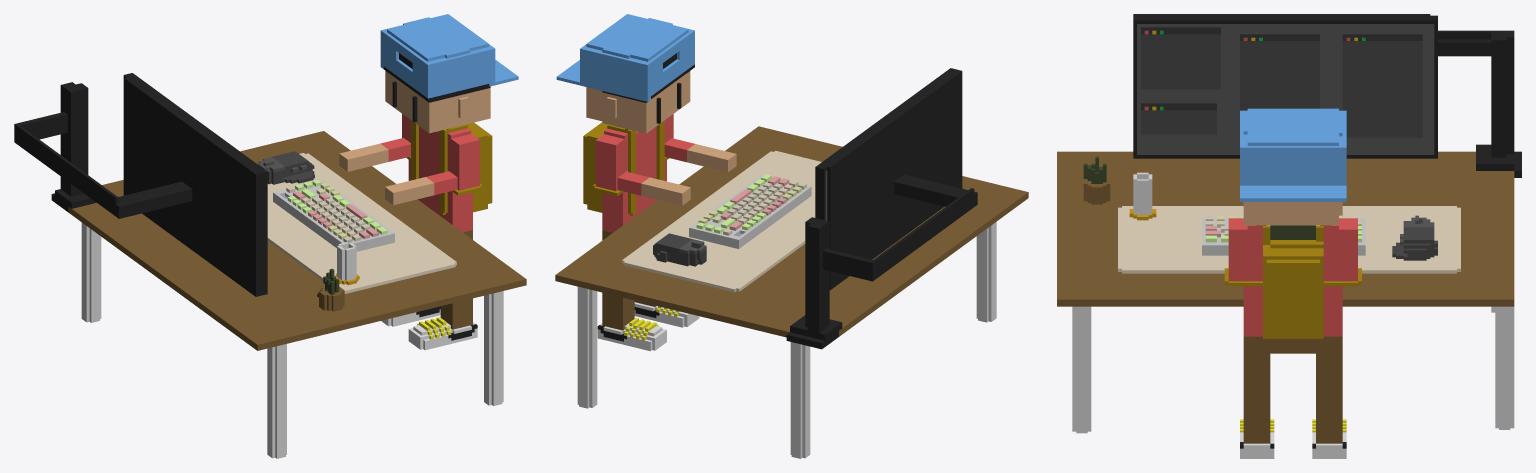
The model's file is desk1.glb.
3 views of the same model, side by side, from view 1: azimuth 30°, elevation 25°; view 2: azimuth 150°, elevation 25°; view 3: azimuth 270°, elevation 25° (orthographic). The views are drawn at different scales.
Parts seen in each view (by area): view 1: desk-10, desk-0, desk-4, desk-2, desk-3, desk-5, desk-8, desk-7, desk-9, desk-1; view 2: desk-10, desk-0, desk-4, desk-2, desk-3, desk-6, desk-9, desk-7, desk-5; view 3: desk-10, desk-5, desk-0, desk-2, desk-8, desk-6, desk-1, desk-3, desk-4.
Boxes of the visible parts, left/top/right/bottom form: desk-10: left=14, top=82, right=526, bottom=350; desk-0: left=339, top=14, right=518, bottom=350; desk-4: left=124, top=77, right=258, bottom=296; desk-2: left=257, top=151, right=456, bottom=293; desk-3: left=273, top=180, right=394, bottom=251; desk-5: left=123, top=73, right=267, bottom=295; desk-8: left=484, top=291, right=503, bottom=405; desk-7: left=267, top=344, right=286, bottom=458; desk-9: left=81, top=222, right=101, bottom=322; desk-1: left=317, top=242, right=359, bottom=311; desk-10: left=555, top=126, right=1028, bottom=349; desk-0: left=556, top=14, right=736, bottom=351; desk-4: left=827, top=70, right=962, bottom=290; desk-2: left=622, top=150, right=821, bottom=292; desk-3: left=689, top=174, right=811, bottom=248; desk-6: left=577, top=286, right=597, bottom=408; desk-9: left=790, top=342, right=810, bottom=458; desk-7: left=976, top=222, right=996, bottom=322; desk-5: left=815, top=68, right=958, bottom=220; desk-10: left=1057, top=30, right=1521, bottom=306; desk-5: left=1133, top=15, right=1437, bottom=158; desk-0: left=1224, top=108, right=1361, bottom=458; desk-2: left=1118, top=206, right=1460, bottom=273; desk-8: left=1072, top=306, right=1091, bottom=433; desk-6: left=1495, top=306, right=1514, bottom=429; desk-1: left=1083, top=156, right=1156, bottom=220; desk-3: left=1202, top=216, right=1365, bottom=255; desk-4: left=1133, top=14, right=1430, bottom=15.
Bounding box in the file's own units: 13.2 × 9.4 × 12.2.
Materials: 11 (11 with a texture image).
